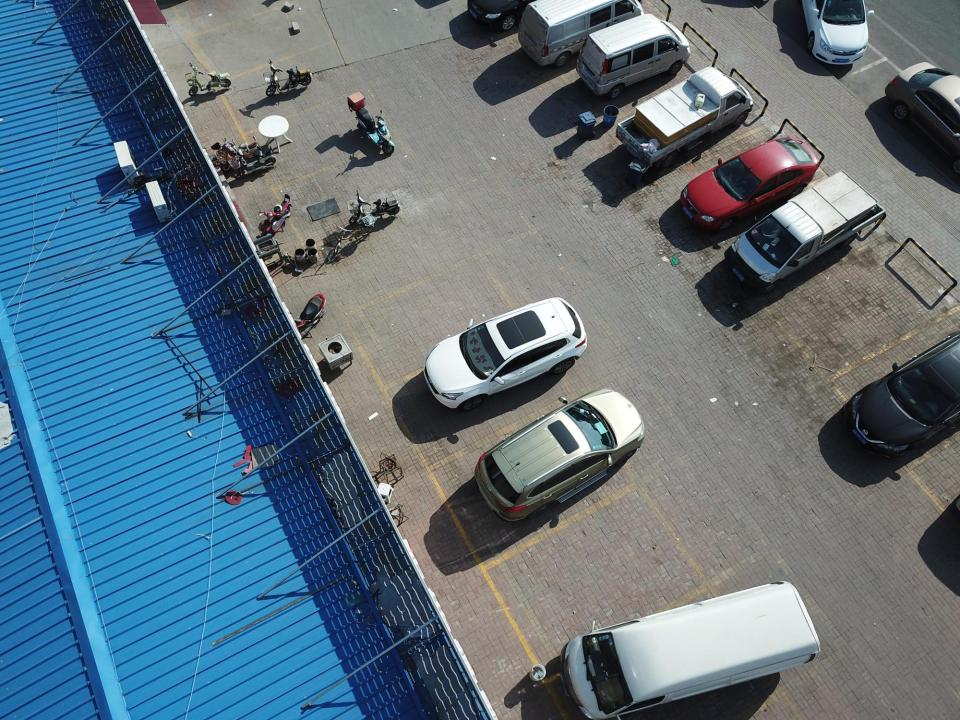car: (558, 579, 822, 714), (472, 388, 647, 525), (422, 293, 588, 411), (730, 171, 890, 285), (845, 330, 960, 457), (615, 65, 752, 164), (680, 135, 820, 228), (576, 13, 692, 92), (514, 0, 646, 56), (886, 56, 960, 142), (806, 0, 873, 69)
